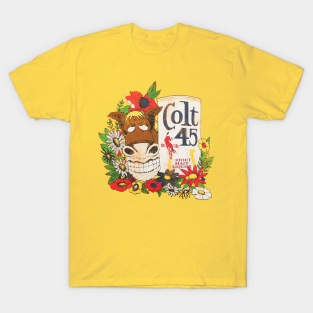design: (96, 79, 216, 201)
